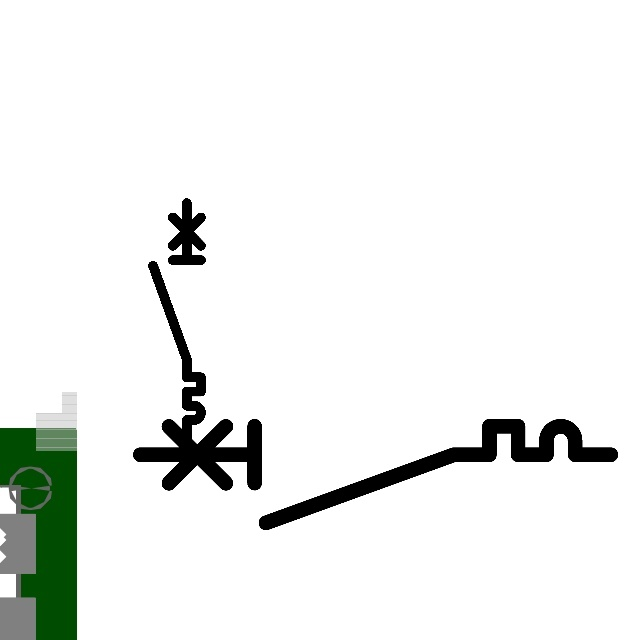interruptor_termomagnetico: (128, 414, 623, 535), (147, 197, 207, 444)
